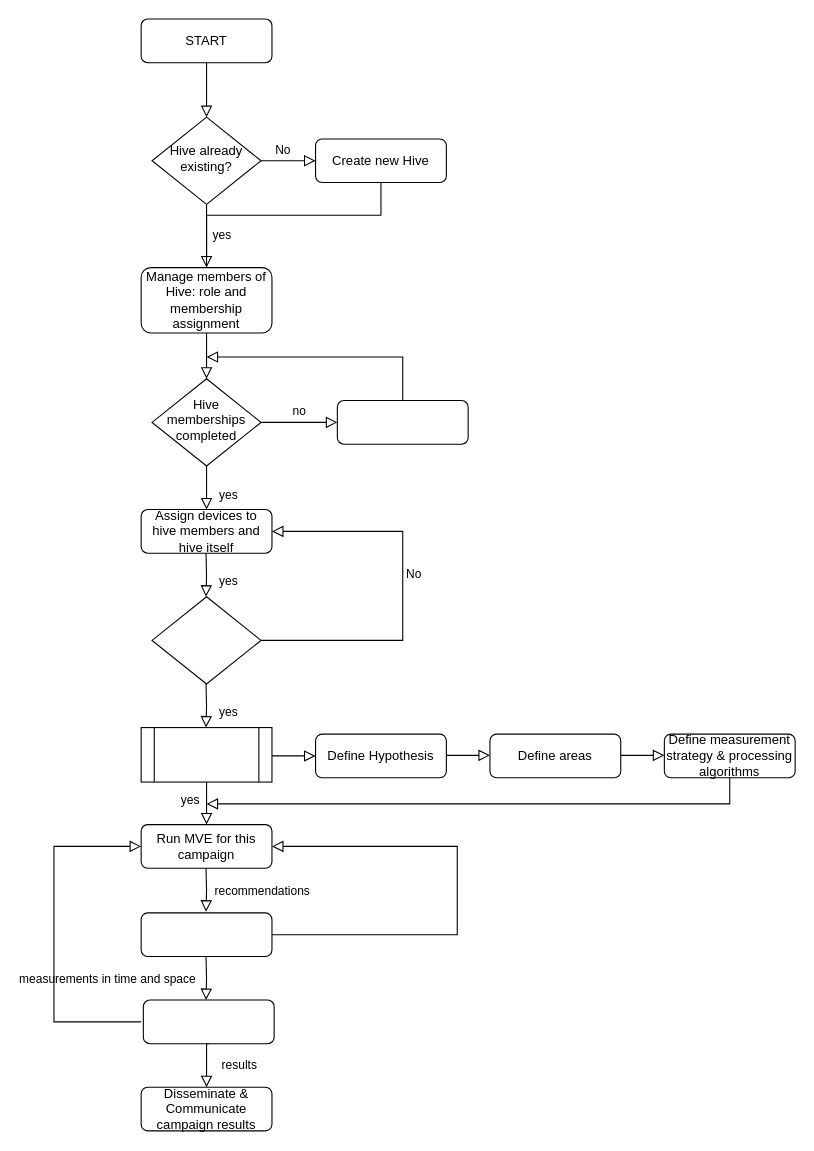
Some shapes in this 814 by 1151 pixel diagram are drawn without their labels. Each missing label, with the centre of its shape:
"Add/edit neiw member" goes at pixel 402 421.
"Configure new campaign" goes at pixel 206 754.
"Devices assigned to Hive" goes at pixel 206 640.
"Gather measurements" goes at pixel 206 934.
"Generate visualizations" goes at pixel 208 1021.
